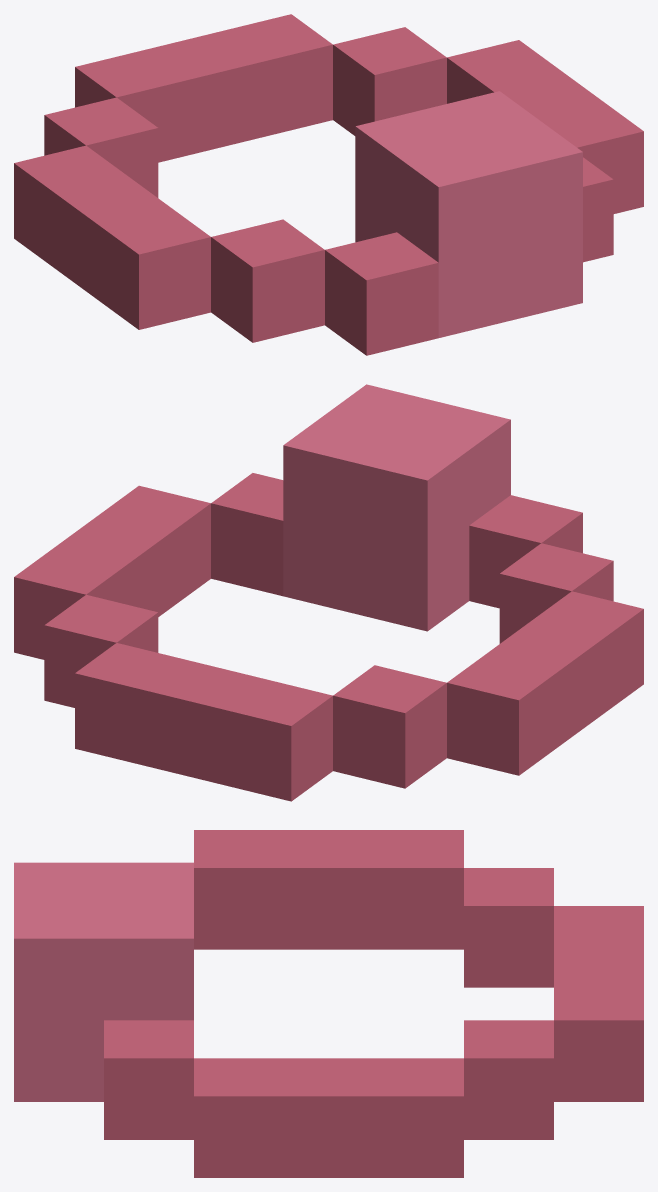
Rendered from collar_rubi_01.glb.
3 renders of one model, top to bottom at view 1: azimuth 30°, elevation 25°; view 2: azimuth 150°, elevation 25°; view 3: azimuth 270°, elevation 25°, orthographic. The views are drawn at different scales.
Visible parts, largest first — view 1: collar_rubi; view 2: collar_rubi; view 3: collar_rubi.
Boxes of the visible parts, x1,y1,x2,y2 form: collar_rubi: [14, 14, 643, 355]; collar_rubi: [14, 384, 643, 801]; collar_rubi: [14, 830, 643, 1177].
Bounding box in the file's own units: 0.5833 × 0.1667 × 0.5833.
